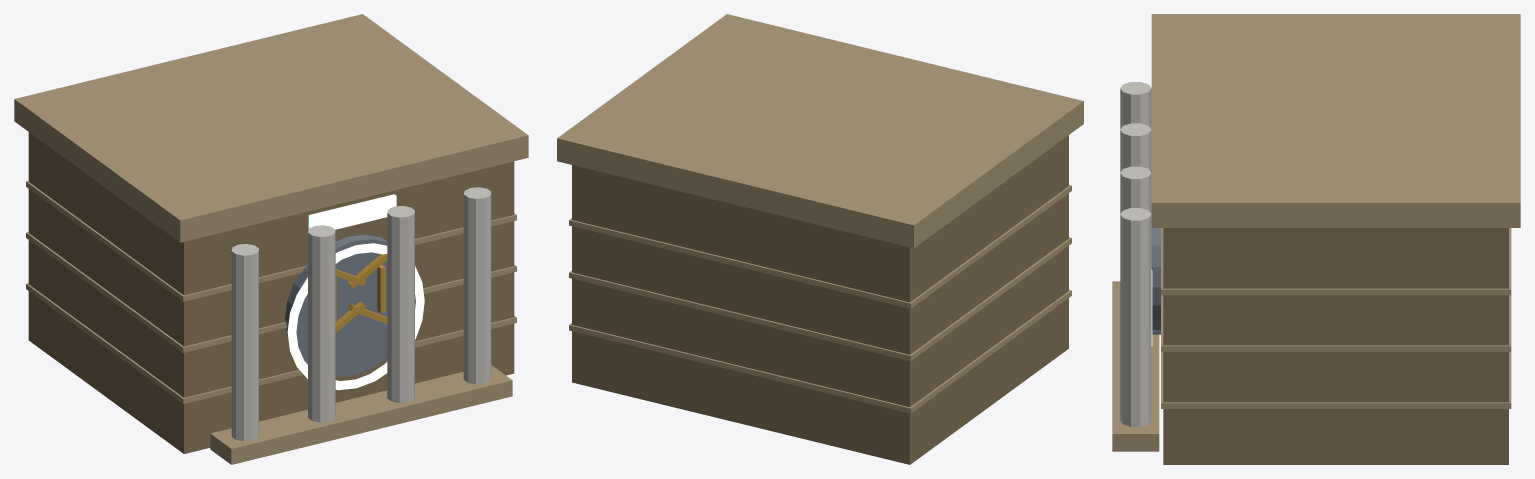
Rendered from kms-bank-vault.glb.
3 renders of one model, left to right at view 1: azimuth 30°, elevation 25°; view 2: azimuth 150°, elevation 25°; view 3: azimuth 270°, elevation 25°, orthographic. The views are drawn at different scales.
Parts seen in each view (by area): view 1: cw_paint, cw_glow, cw_neon; view 2: cw_paint; view 3: cw_paint.
Part boxes in pixels (box(x1,y1,x2,y2)): cw_paint: box(14, 14, 528, 464); cw_glow: box(287, 243, 424, 390); cw_neon: box(308, 194, 396, 229); cw_paint: box(557, 14, 1083, 464); cw_paint: box(1112, 14, 1520, 464).
Bounding box in the file's own units: 5.7 × 3.75 × 5.2.
